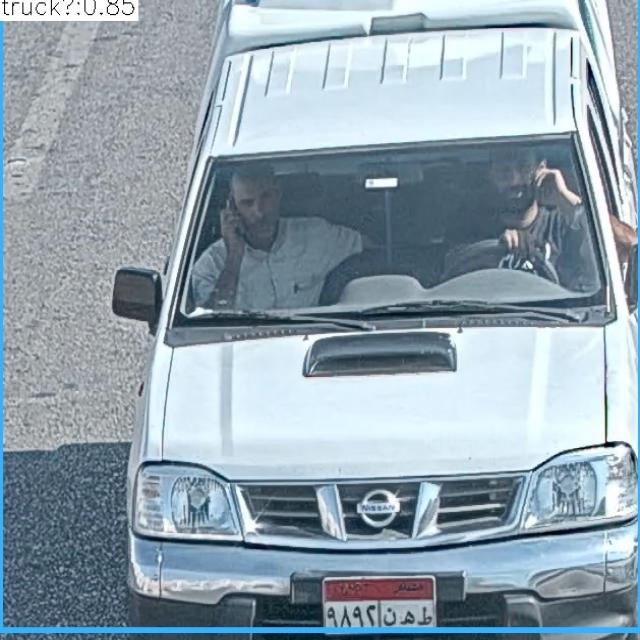windshield: (169, 140, 599, 318)
